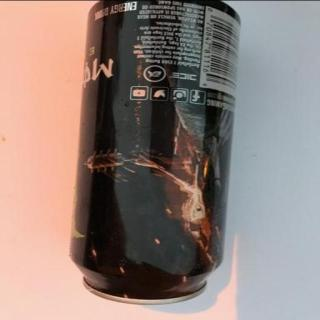Anorganik: (62, 0, 245, 307)
